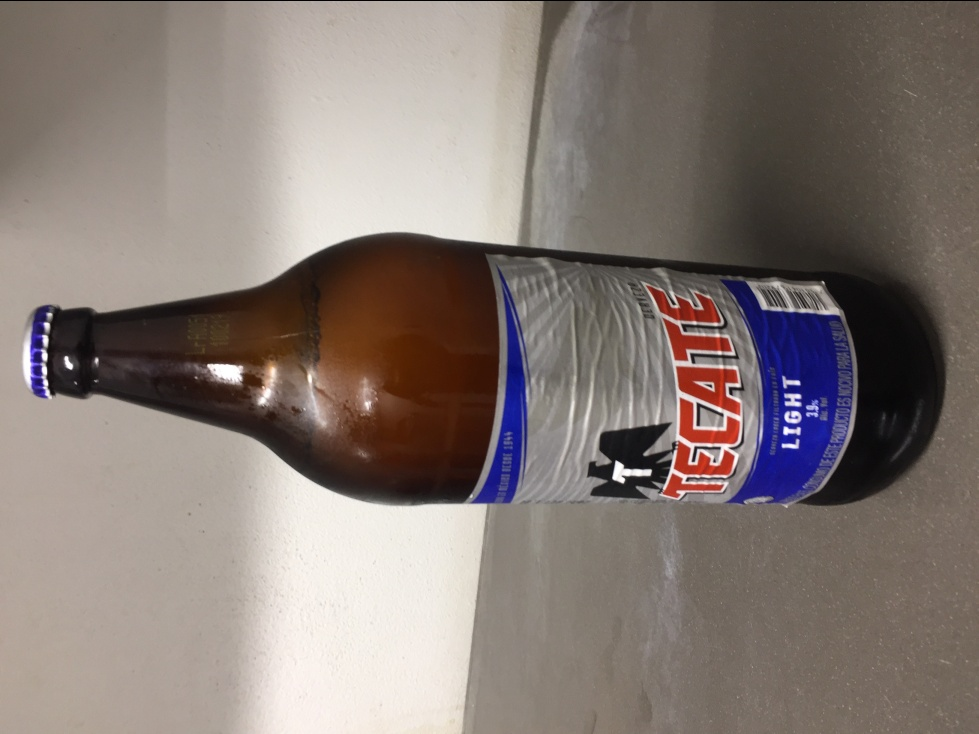tecateC: (22, 231, 952, 511)
